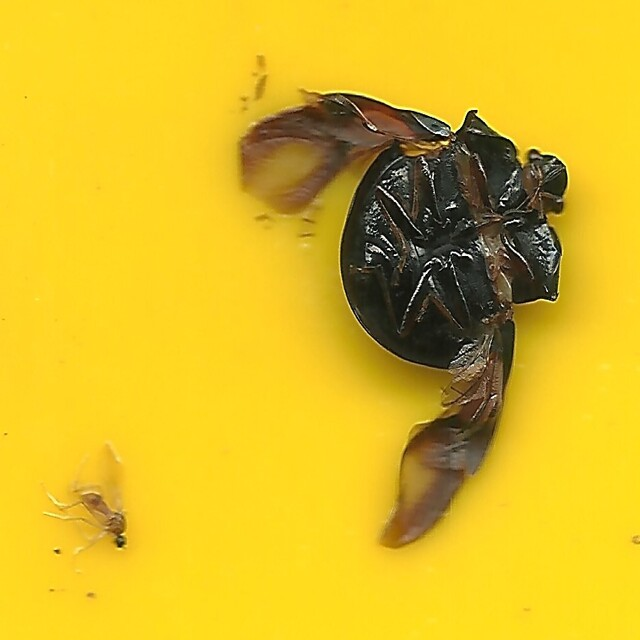Brachycera: (69, 444, 129, 554)
Coleoptera: (237, 86, 571, 549)
